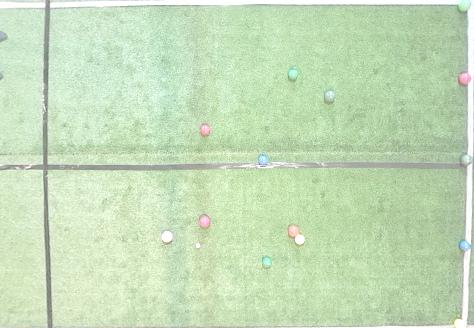blue: (459, 240, 470, 251), (258, 155, 269, 165)
green: (457, 1, 471, 12), (325, 90, 336, 102), (461, 155, 472, 165), (288, 69, 298, 80), (262, 256, 271, 268)
red: (459, 72, 472, 84), (199, 215, 211, 227), (161, 231, 173, 243), (288, 225, 299, 237), (200, 125, 211, 136)
vline: (1, 1, 55, 327), (461, 251, 473, 319), (463, 164, 473, 241), (466, 83, 473, 155), (466, 10, 473, 73)
white: (196, 243, 200, 248)
yellow: (453, 317, 467, 327), (295, 234, 306, 245)
